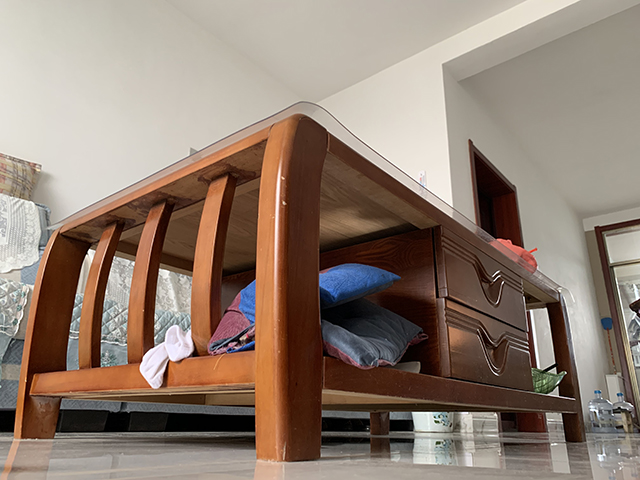table: (10, 99, 588, 462)
